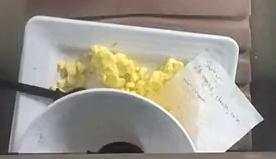scrambled_eggs: (57, 45, 182, 95)
